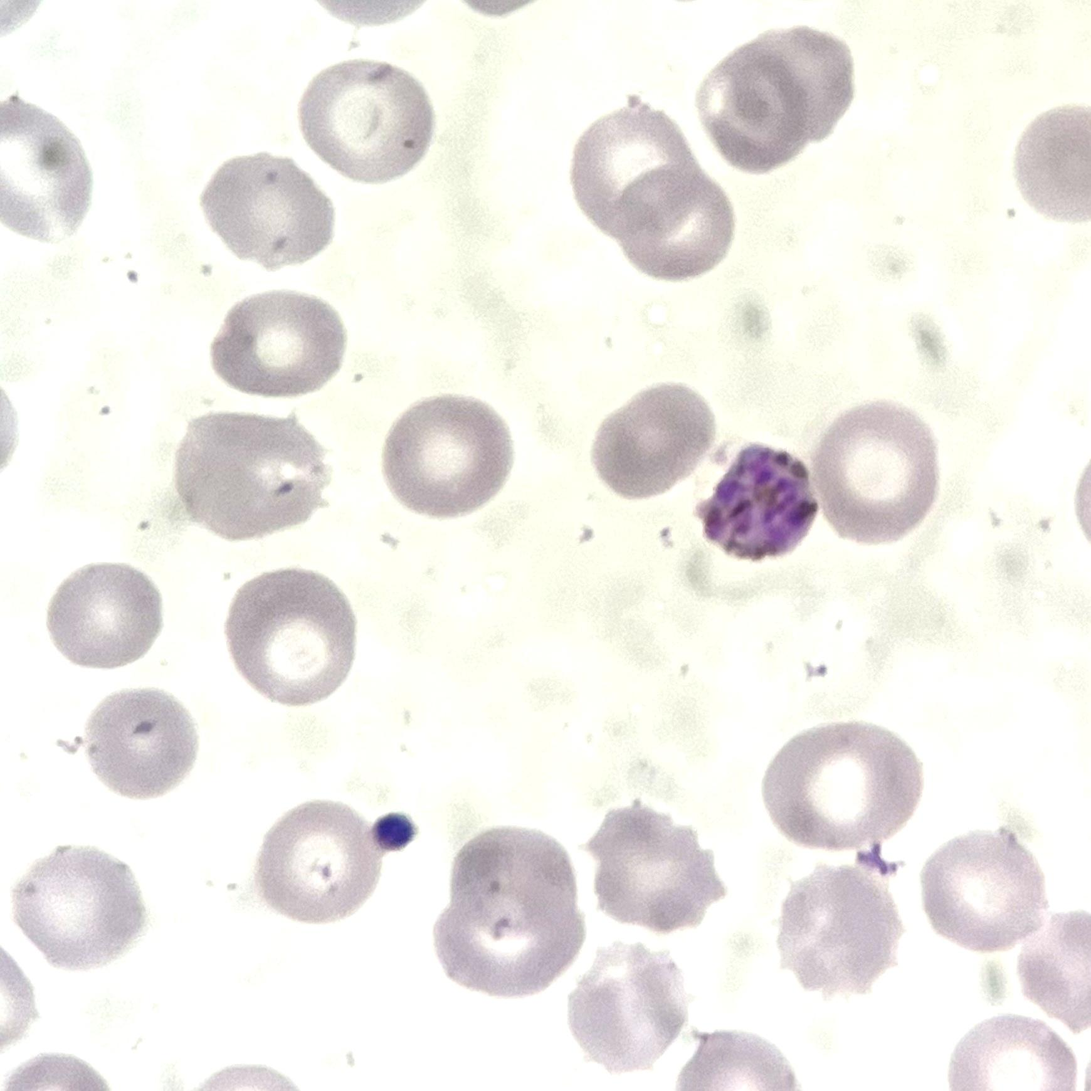Infected: (686, 437, 810, 561)
Uninfected: (763, 721, 923, 855), (226, 565, 355, 710), (805, 402, 933, 542), (437, 872, 582, 995), (180, 412, 320, 537), (298, 63, 438, 186), (583, 803, 718, 930), (771, 864, 898, 995), (385, 393, 514, 519), (562, 937, 683, 1071), (571, 103, 691, 236), (6, 845, 139, 964), (918, 830, 1042, 954), (692, 36, 803, 173), (197, 149, 328, 265), (253, 799, 373, 925), (587, 379, 711, 499), (209, 289, 347, 392), (738, 30, 855, 146), (0, 94, 91, 241), (86, 686, 198, 803), (614, 168, 729, 277), (458, 824, 581, 923), (48, 563, 158, 671), (953, 1013, 1074, 1091), (1018, 105, 1091, 221)
